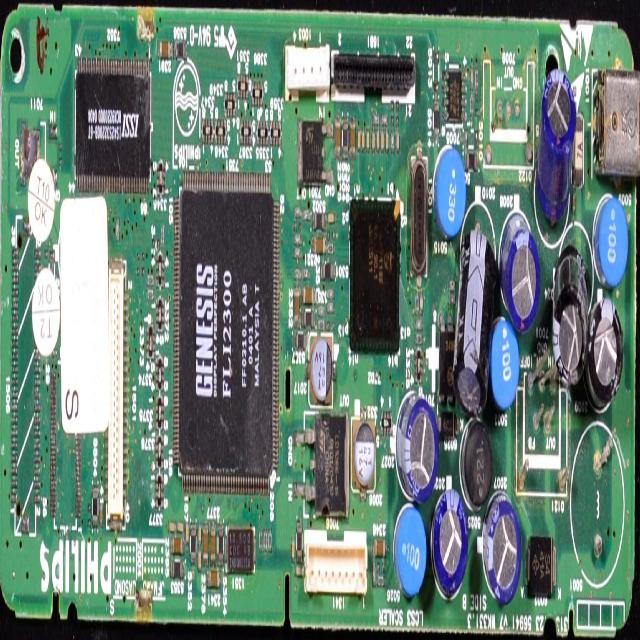Capacitor Jumper: (312, 235, 326, 253), (170, 537, 184, 555), (202, 524, 208, 565), (334, 123, 341, 158), (302, 285, 314, 305), (210, 524, 216, 564), (374, 536, 386, 556), (207, 570, 220, 588), (294, 289, 300, 326), (349, 125, 355, 156), (326, 210, 335, 223), (295, 563, 303, 577), (291, 537, 295, 561), (385, 129, 389, 152), (396, 130, 400, 153), (185, 522, 189, 544), (198, 522, 202, 544), (376, 130, 380, 151), (177, 522, 184, 534), (168, 523, 175, 535), (471, 64, 474, 92), (371, 131, 375, 151), (366, 130, 370, 149), (420, 291, 423, 314), (381, 130, 384, 152), (198, 549, 201, 571), (358, 130, 361, 151), (362, 128, 364, 150)
Connector: (591, 66, 640, 176), (332, 50, 416, 99), (108, 266, 124, 518), (306, 525, 365, 593), (286, 46, 330, 101)
IC: (174, 168, 278, 496), (76, 60, 152, 192), (349, 195, 400, 359), (440, 65, 467, 124)
Resistor Jumper: (146, 274, 155, 286), (381, 112, 388, 127), (116, 216, 120, 242), (415, 291, 419, 316), (390, 131, 394, 155), (326, 242, 334, 254), (146, 288, 154, 300), (326, 302, 334, 314), (318, 304, 326, 316), (415, 319, 423, 331), (317, 319, 325, 331), (415, 332, 423, 344), (372, 113, 379, 126), (447, 295, 456, 305), (302, 211, 310, 222), (294, 233, 302, 244), (302, 268, 310, 279), (326, 288, 334, 299), (295, 205, 302, 217), (448, 280, 456, 290), (294, 267, 300, 280), (161, 223, 164, 246), (294, 250, 300, 260)
Transistor: (293, 413, 351, 521)
